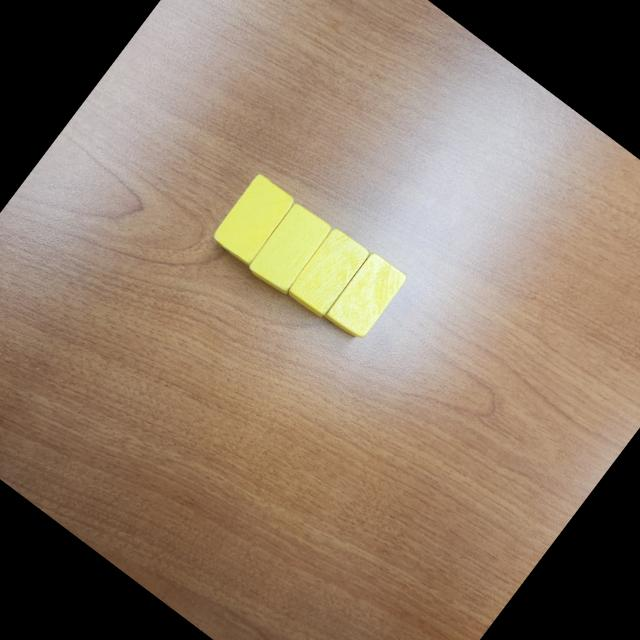yellow: (244, 200, 335, 300), (208, 172, 298, 270), (282, 225, 372, 322), (322, 251, 408, 345)
